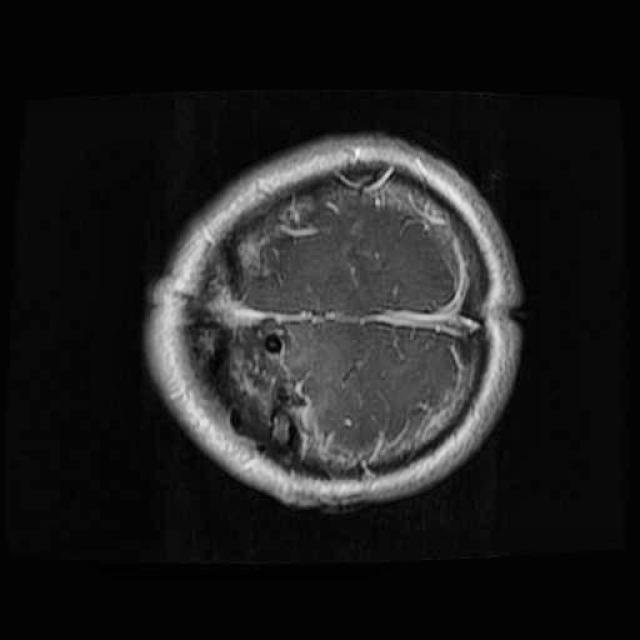Non-Tumor: (174, 219, 326, 484)
